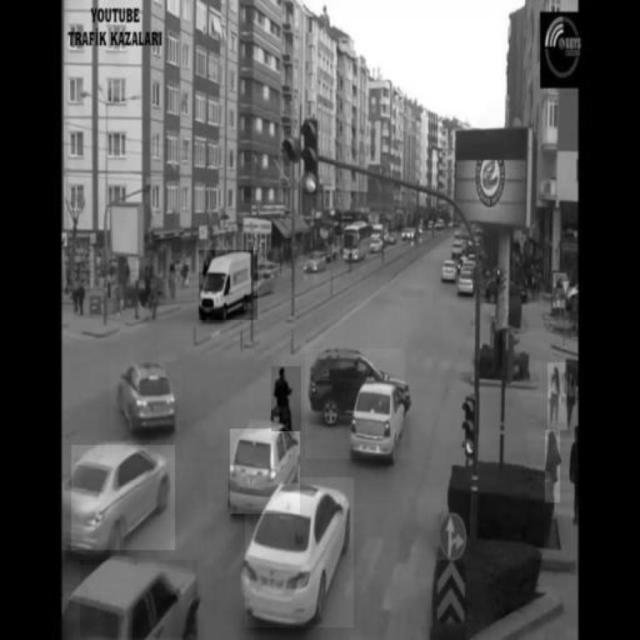accident: (305, 349, 406, 459)
person: (547, 363, 567, 430), (546, 431, 561, 503)
vehicle: (246, 478, 354, 628), (72, 445, 175, 551), (80, 561, 198, 638), (230, 429, 300, 513), (111, 364, 182, 430), (199, 250, 257, 320), (272, 367, 302, 431)
